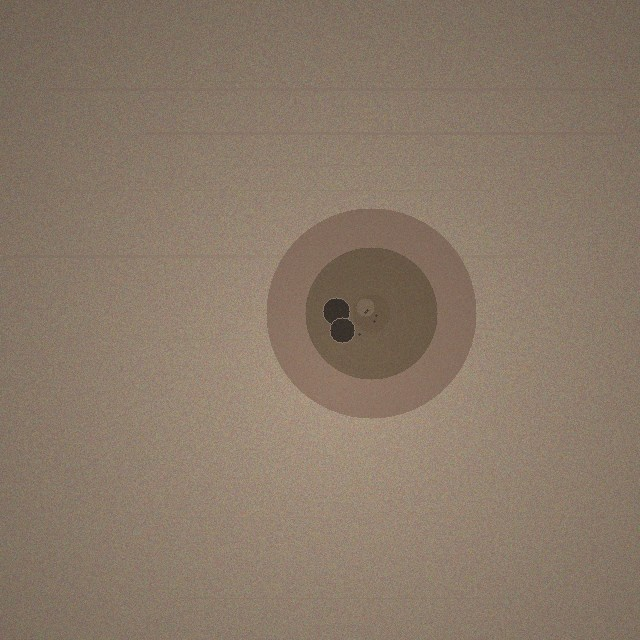shrinkage: (266, 208, 476, 418)
